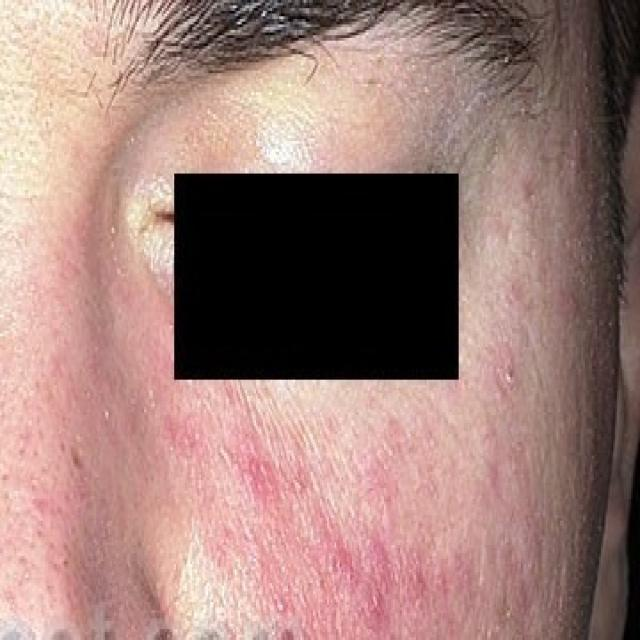Rosacea: (165, 386, 530, 620)
